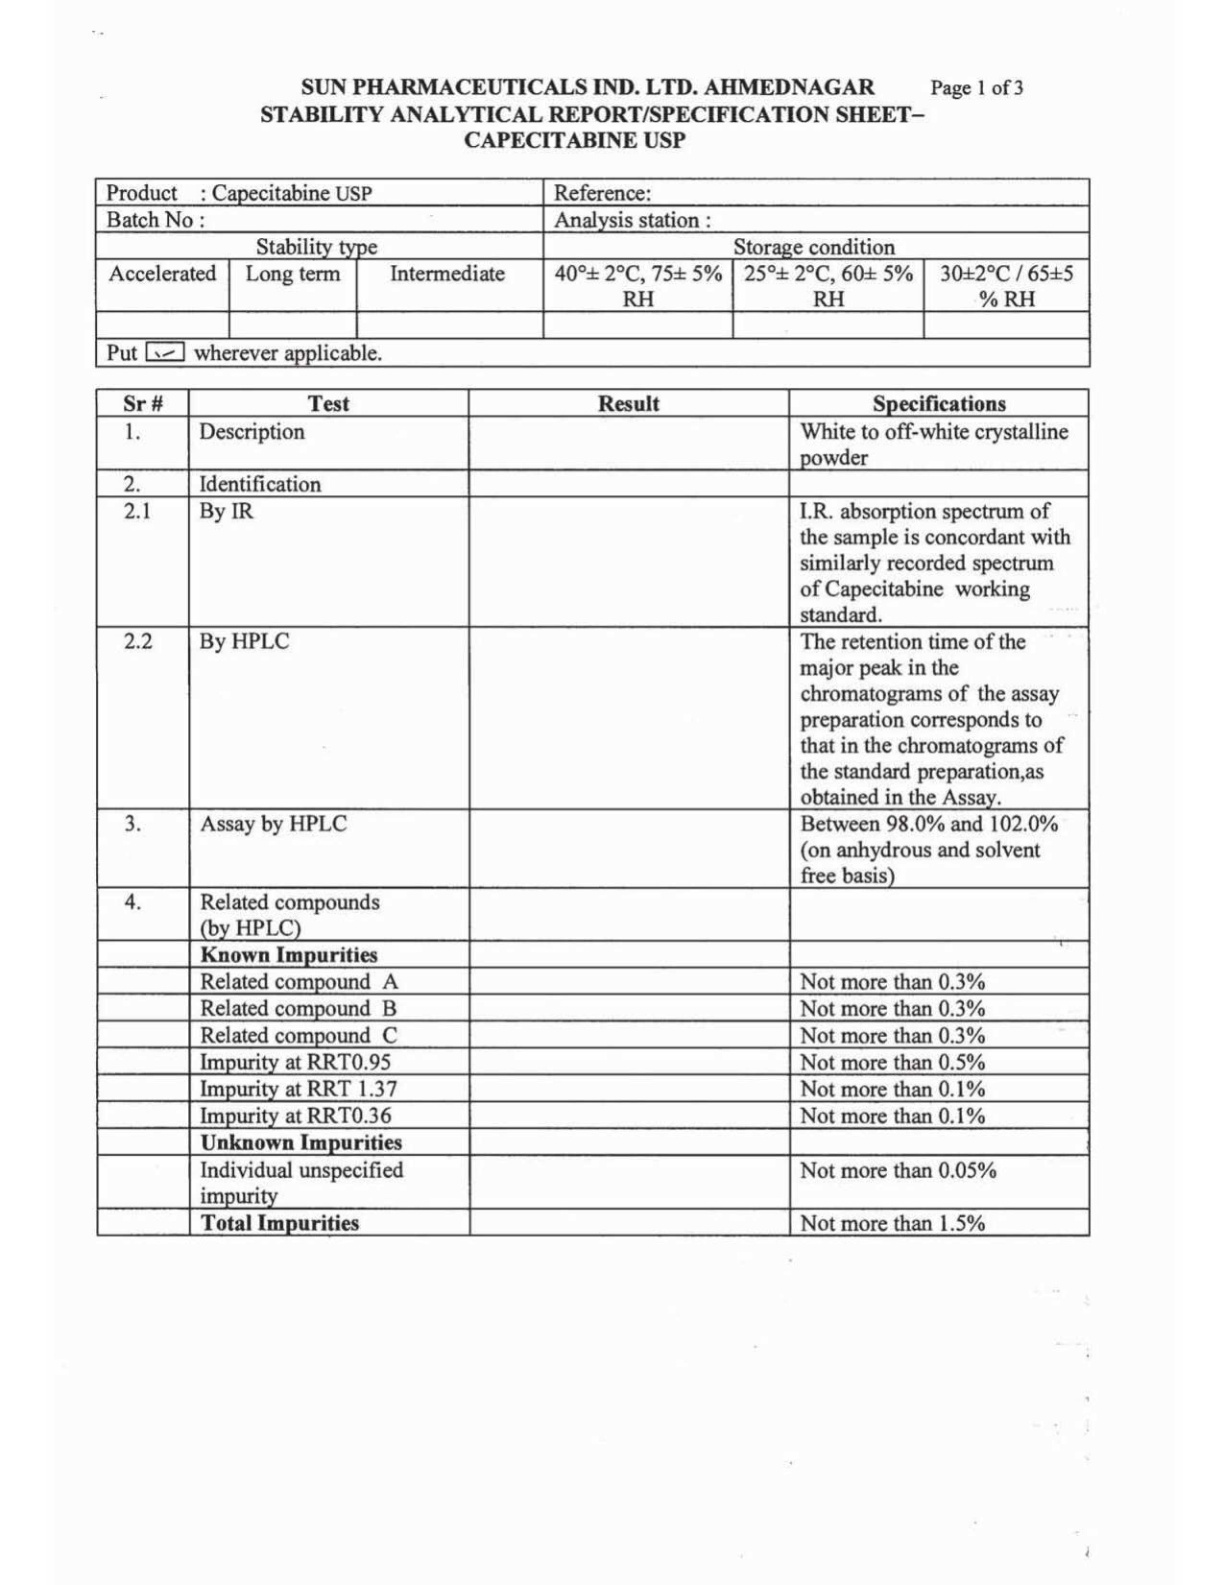full_lined: (96, 387, 1090, 1237)
merged_cells: (94, 177, 1092, 369)
